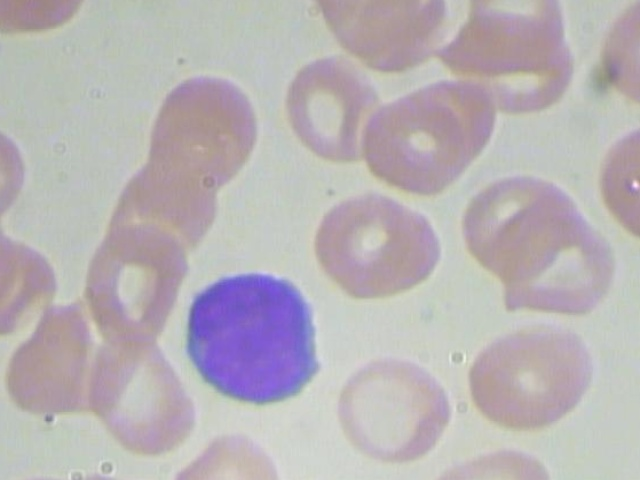Platelets: (0, 23, 1, 72)
RBC: (455, 317, 603, 443), (128, 59, 278, 182), (300, 186, 449, 309), (487, 191, 616, 325), (74, 336, 204, 462), (67, 217, 197, 342), (328, 344, 456, 464), (272, 46, 386, 160), (359, 90, 477, 194), (160, 422, 289, 480), (435, 437, 588, 480), (590, 123, 640, 241), (590, 0, 640, 110)
WBC: (186, 264, 325, 406)
